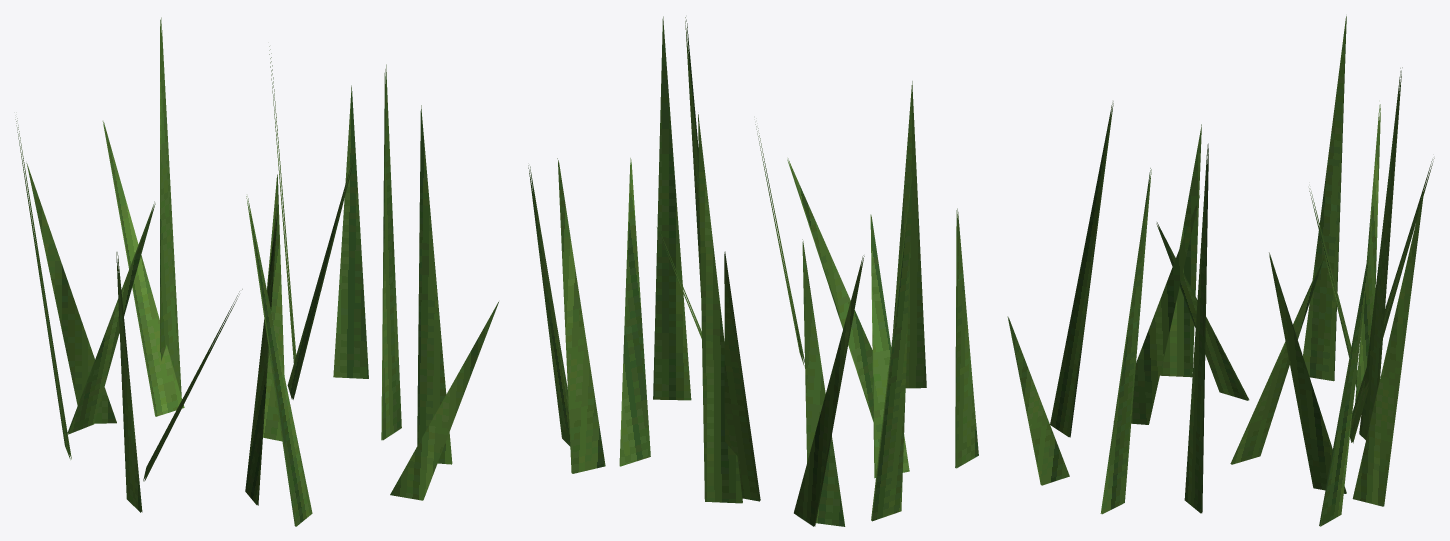
The model's file is hierba_mata.obj.
3 renders of one model, left to right at view 1: azimuth 30°, elevation 25°; view 2: azimuth 150°, elevation 25°; view 3: azimuth 270°, elevation 25°, orthographic. The views are drawn at different scales.
Visible parts, largest first — view 1: hierba_mata; view 2: hierba_mata; view 3: hierba_mata.
Part boxes in pixels (left/top/right/bottom): hierba_mata: left=15, top=17, right=498, bottom=526; hierba_mata: left=528, top=16, right=978, bottom=526; hierba_mata: left=1007, top=16, right=1434, bottom=526.
Bounding box in the file's own units: 0.5639 × 0.5813 × 0.5955.
Materials: 1 (1 with a texture image).
